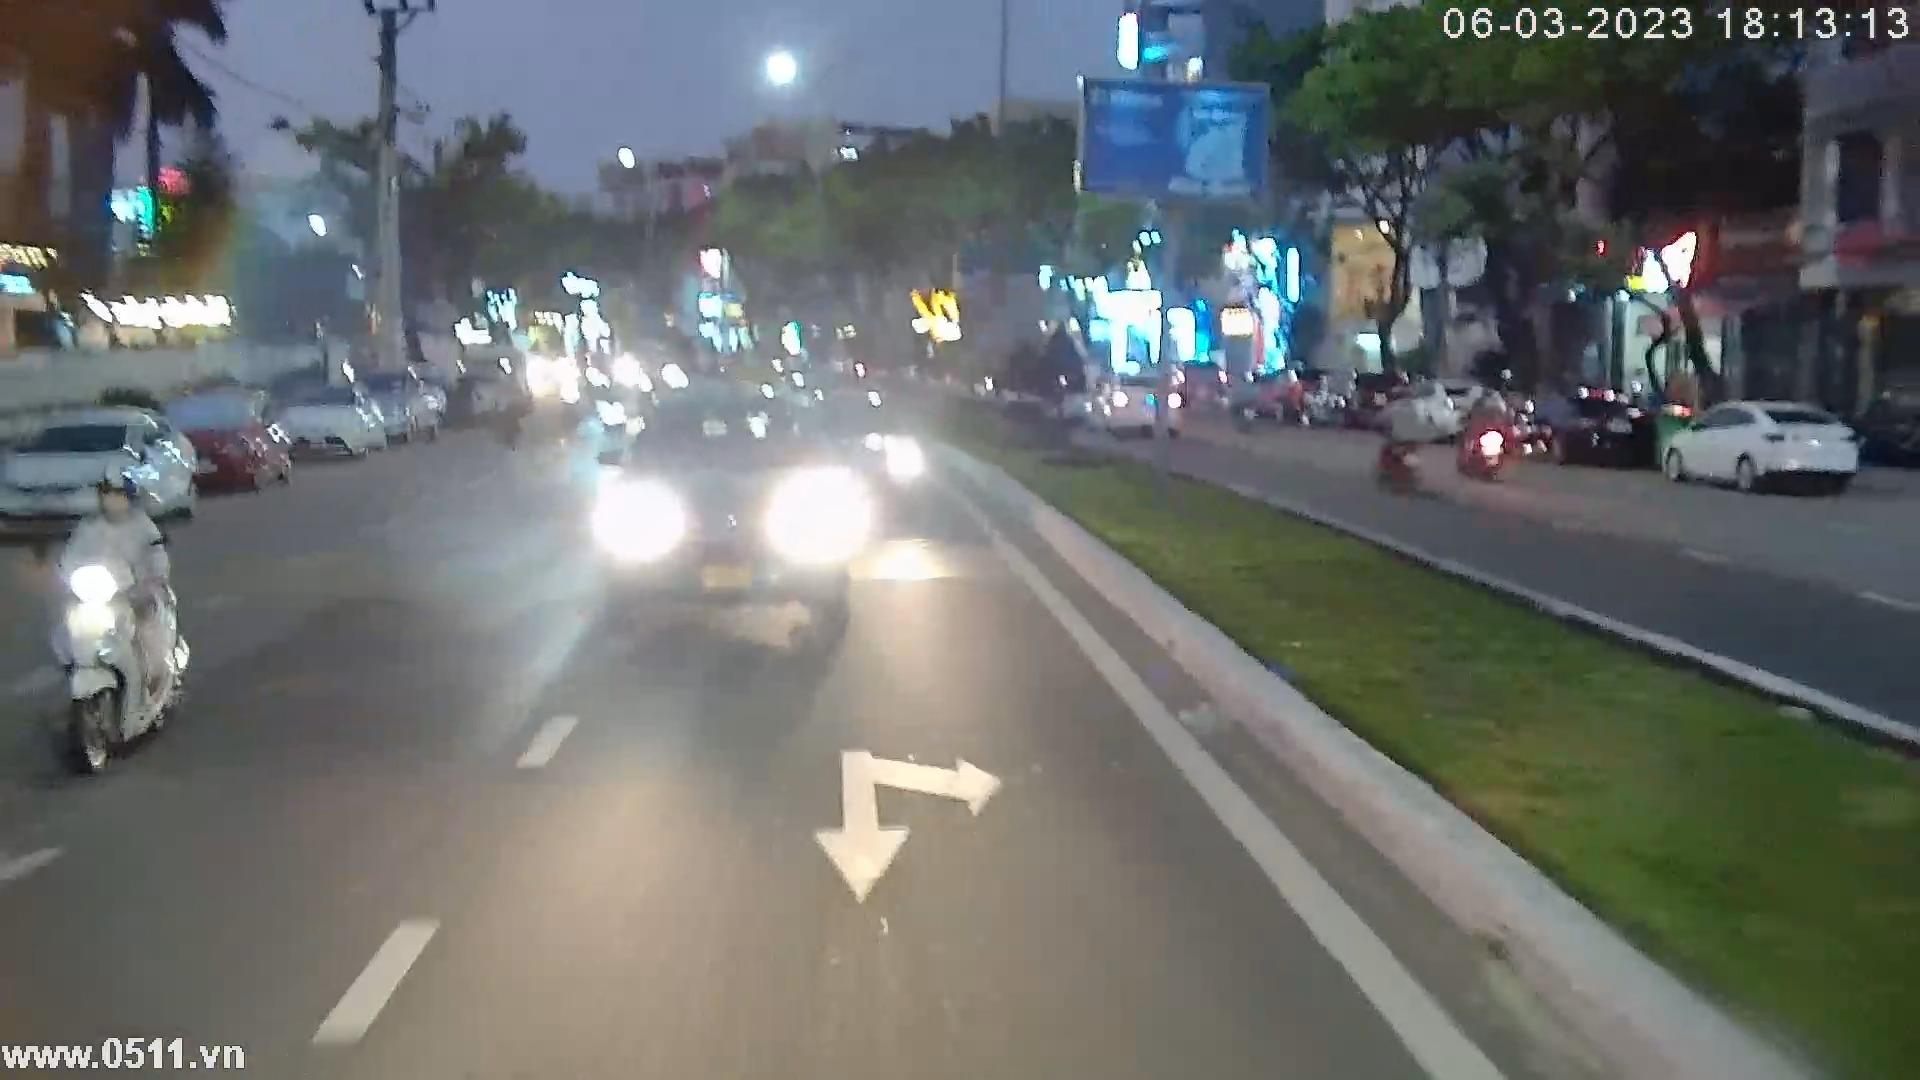car: (595, 375, 862, 633), (0, 405, 208, 530), (1660, 389, 1866, 505), (179, 382, 297, 491), (268, 371, 389, 465)
motorcycle: (47, 460, 202, 781), (1369, 378, 1428, 492), (1451, 375, 1510, 475)
